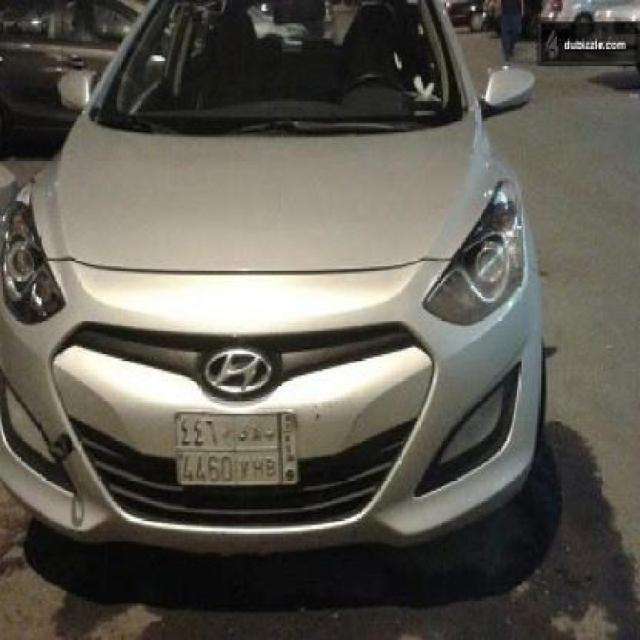license_plate: (173, 407, 301, 488)
